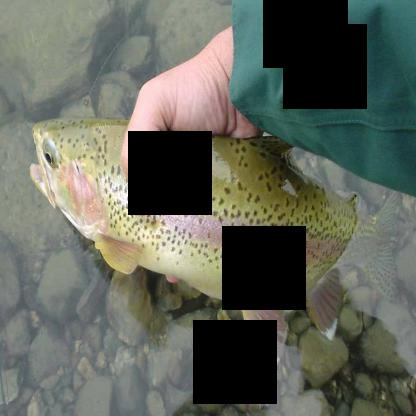fish: (22, 111, 407, 376)
